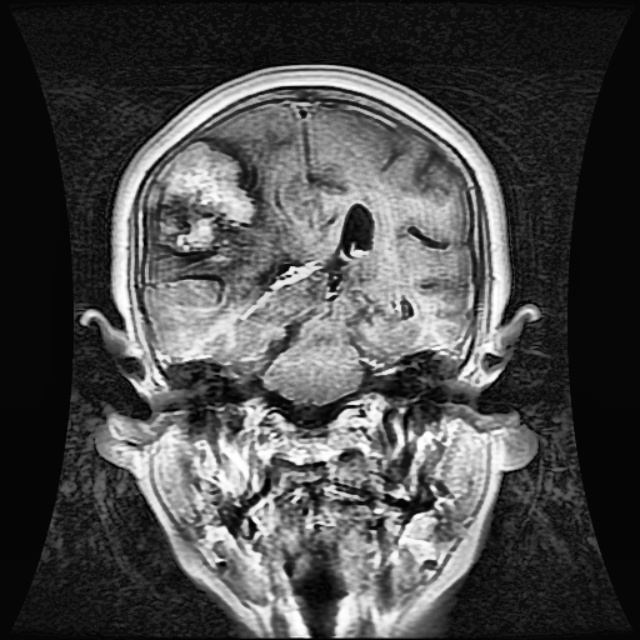Glioma: (144, 139, 254, 255)
